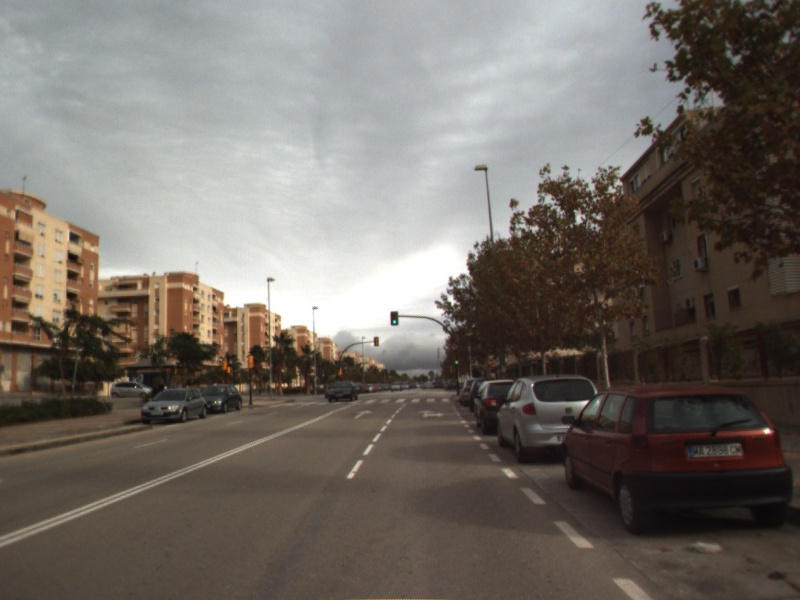STRAIGHT: (352, 407, 374, 421)
STRAIGHT_RIGHT: (417, 407, 446, 419)
